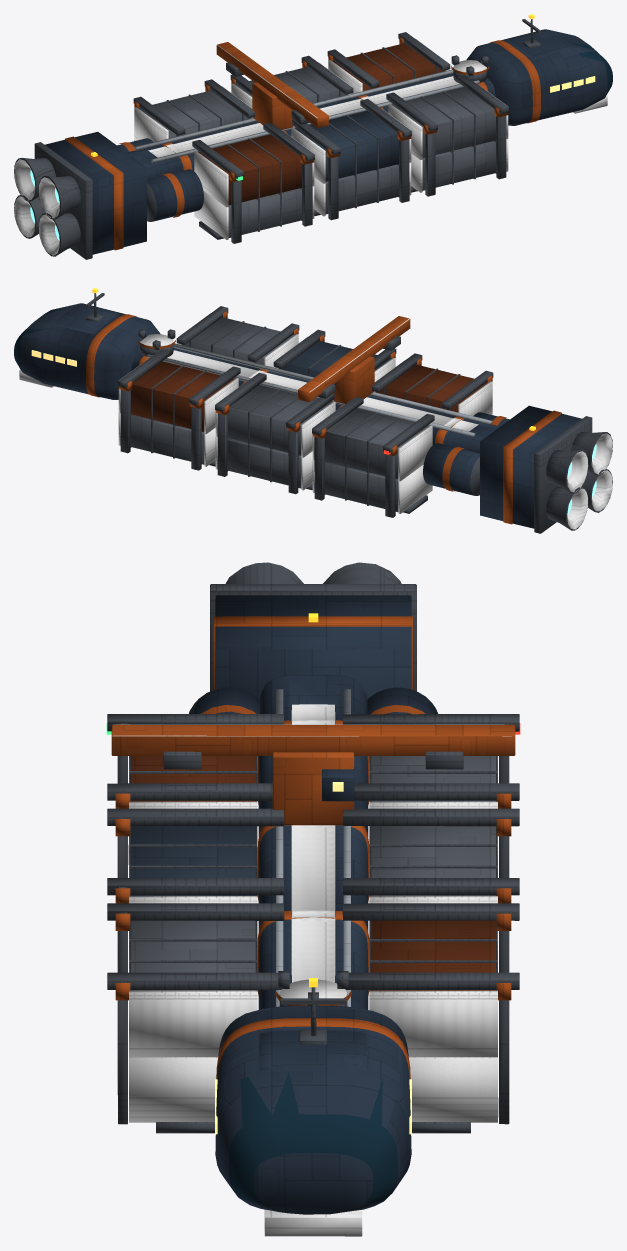
File: atlas_production_v1_lod2.glb
The picture shows the model from 3 angles, top to bottom: view 1: azimuth 30°, elevation 25°; view 2: azimuth 150°, elevation 25°; view 3: azimuth 270°, elevation 25°; orthographic projection. The views are drawn at different scales.
Parts seen in each view (by area): view 1: LOD0_Mechanical, LOD0_Hull, LOD0_Armor, LOD0_MechanicalDark, LOD0_Armor_orange, LOD0_Armor_navy, LOD0_HOOK_SECONDARY_CRANE_Warning, LOD0_Livery, LOD0_BrushedMetal, LOD0_Warning, LOD0_CANOPY; view 2: LOD0_Mechanical, LOD0_Hull, LOD0_Armor, LOD0_MechanicalDark, LOD0_Armor_orange, LOD0_HOOK_SECONDARY_CRANE_Warning, LOD0_Livery, LOD0_BrushedMetal, LOD0_Armor_navy, LOD0_Warning; view 3: LOD0_Hull, LOD0_Mechanical, LOD0_MechanicalDark, LOD0_HOOK_SECONDARY_CRANE_Warning, LOD0_Armor, LOD0_CANOPY, LOD0_Armor_orange, LOD0_Armor_navy, LOD0_Livery, LOD0_Warning, LOD0_BrushedMetal, LOD0_HOOK_SECONDARY_CRANE_Mechanical (+2 smaller).
Part boxes in pixels (x1=…): LOD0_Mechanical: x1=14, y1=32, x2=508, y2=259; LOD0_Hull: x1=45, y1=29, x2=607, y2=254; LOD0_Armor: x1=138, y1=67, x2=495, y2=237; LOD0_MechanicalDark: x1=14, y1=39, x2=607, y2=255; LOD0_Armor_orange: x1=198, y1=43, x2=445, y2=205; LOD0_Armor_navy: x1=295, y1=111, x2=398, y2=181; LOD0_HOOK_SECONDARY_CRANE_Warning: x1=216, y1=42, x2=328, y2=129; LOD0_Livery: x1=65, y1=40, x2=540, y2=250; LOD0_BrushedMetal: x1=134, y1=69, x2=479, y2=163; LOD0_Warning: x1=134, y1=37, x2=508, y2=181; LOD0_CANOPY: x1=569, y1=43, x2=612, y2=95; LOD0_Mechanical: x1=118, y1=306, x2=612, y2=533; LOD0_Hull: x1=19, y1=303, x2=581, y2=528; LOD0_Armor: x1=131, y1=317, x2=428, y2=511; LOD0_MechanicalDark: x1=19, y1=313, x2=612, y2=529; LOD0_Armor_orange: x1=131, y1=361, x2=488, y2=431; LOD0_HOOK_SECONDARY_CRANE_Warning: x1=298, y1=316, x2=410, y2=403; LOD0_Livery: x1=86, y1=314, x2=561, y2=524; LOD0_BrushedMetal: x1=147, y1=343, x2=492, y2=437; LOD0_Armor_navy: x1=278, y1=341, x2=391, y2=377; LOD0_Warning: x1=118, y1=311, x2=492, y2=455; LOD0_Hull: x1=189, y1=595, x2=437, y2=1214; LOD0_Mechanical: x1=107, y1=562, x2=519, y2=1133; LOD0_MechanicalDark: x1=129, y1=704, x2=497, y2=1236; LOD0_HOOK_SECONDARY_CRANE_Warning: x1=111, y1=724, x2=515, y2=825; LOD0_Armor: x1=130, y1=756, x2=496, y2=990; LOD0_CANOPY: x1=229, y1=1072, x2=397, y2=1204; LOD0_Armor_orange: x1=130, y1=756, x2=496, y2=990; LOD0_Armor_navy: x1=131, y1=826, x2=255, y2=896; LOD0_Livery: x1=201, y1=616, x2=425, y2=1079; LOD0_Warning: x1=115, y1=724, x2=511, y2=1005; LOD0_BrushedMetal: x1=276, y1=689, x2=350, y2=1006; LOD0_HOOK_SECONDARY_CRANE_Mechanical: x1=163, y1=751, x2=463, y2=769.
Size of what is drawn, in the model's own units: 23.72 by 4.48 by 7.58.
Materials: 15 (9 with a texture image).
